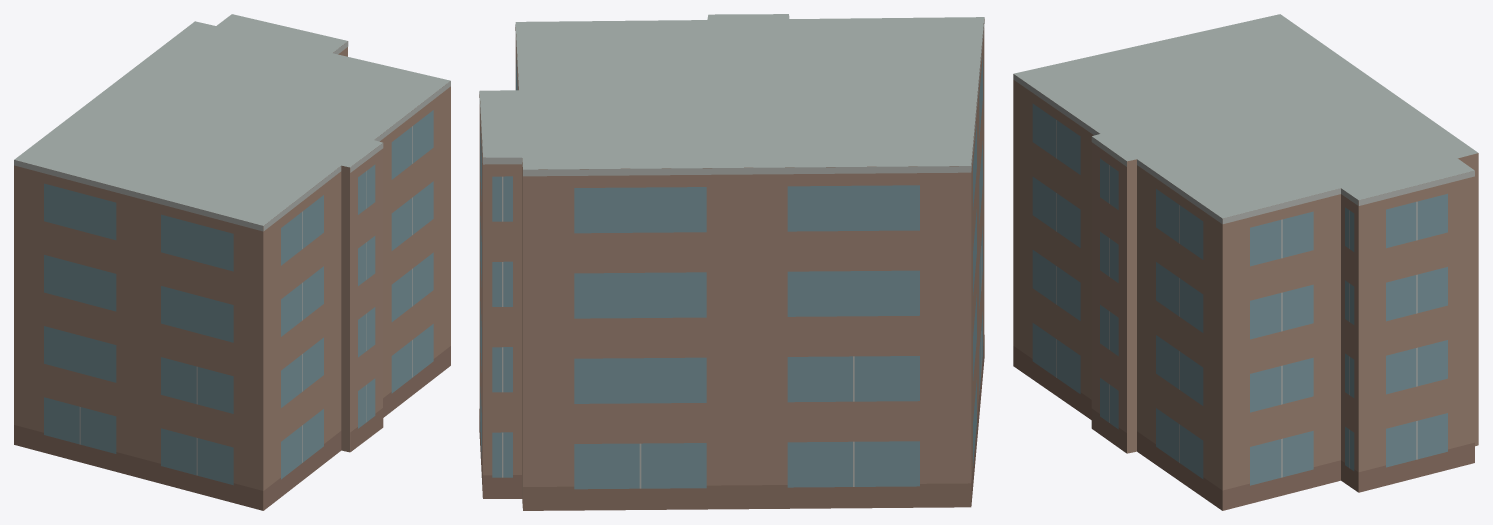
File: survey-upis-32977618.glb
3 views of the same model, side by side, from view 1: azimuth 30°, elevation 25°; view 2: azimuth 150°, elevation 25°; view 3: azimuth 270°, elevation 25° (orthographic). The views are drawn at different scales.
Visible parts, largest first — view 1: survey-upis-32977618.tmp; view 2: survey-upis-32977618.tmp; view 3: survey-upis-32977618.tmp.
Part boxes in pixels (<box>): survey-upis-32977618.tmp: <box>14,14,450,510</box>; survey-upis-32977618.tmp: <box>479,14,984,510</box>; survey-upis-32977618.tmp: <box>1013,14,1478,510</box>.
Bounding box in the file's own units: 18.47 × 12.3 × 17.75.
